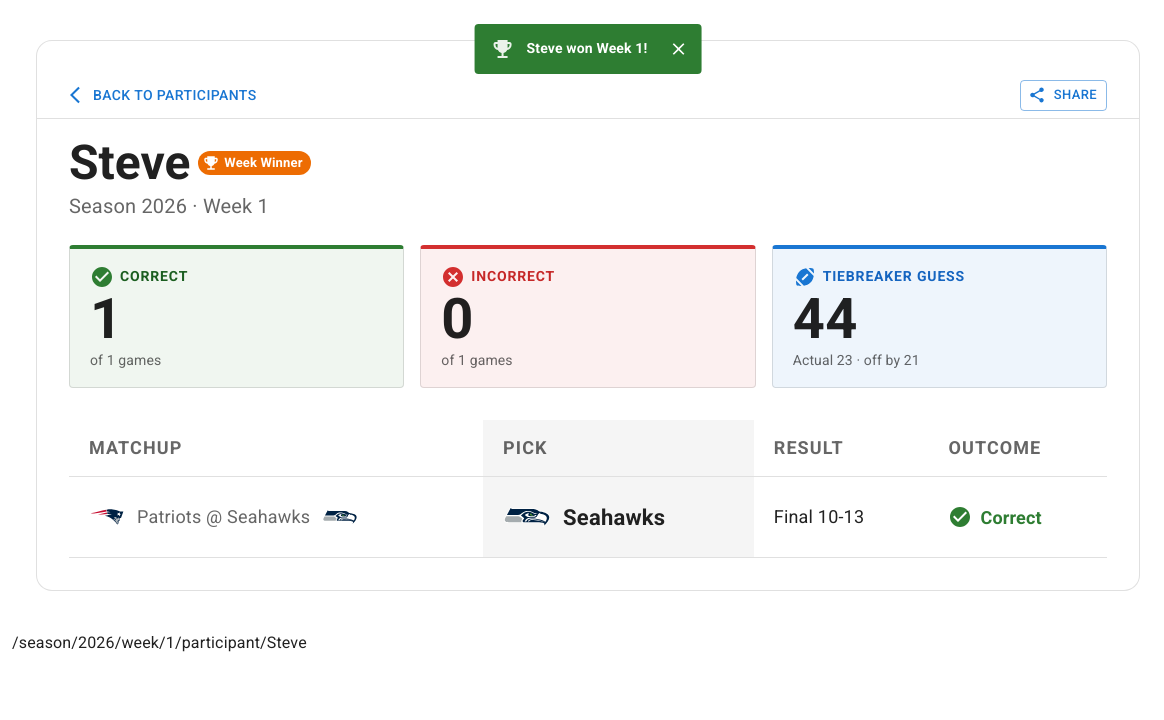
it: App routing › navigates back from detail to list, and from list to selection
Click the link "Back to participants" at (161, 95), box [65,85,256,105]
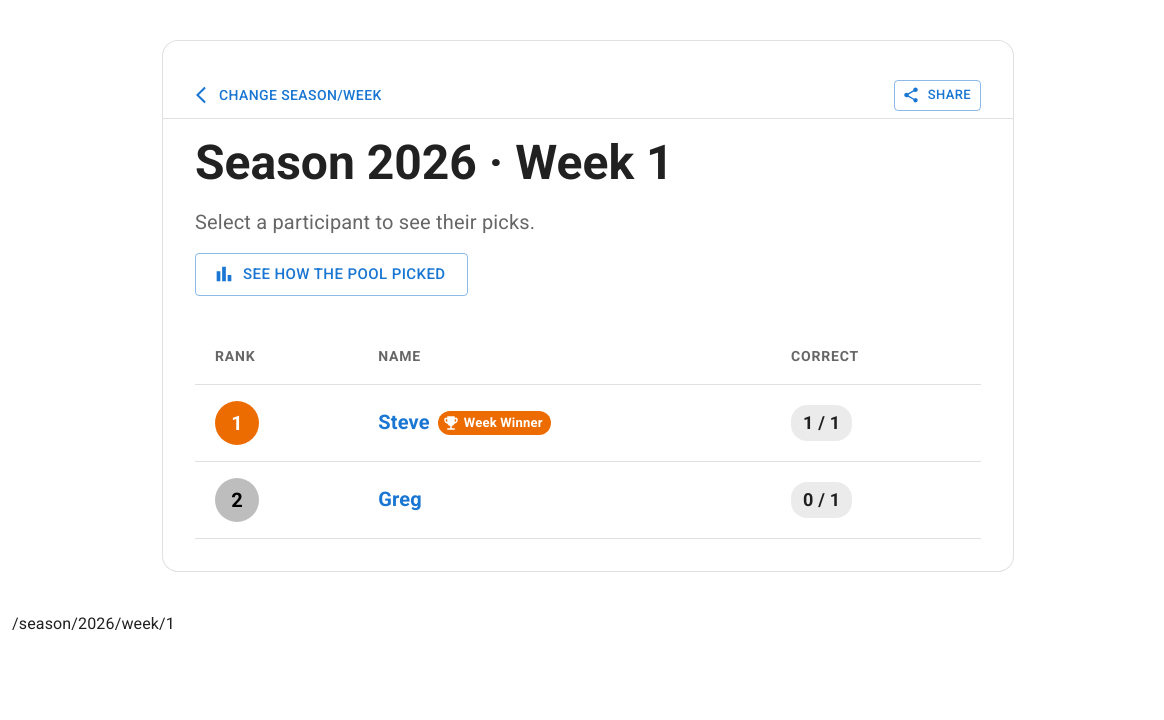
Check: the text with test id "location" reads "/season/2026/week/1", box [12,614,175,633]
Click the link "Change season/week" at (286, 95), box [191,85,382,105]
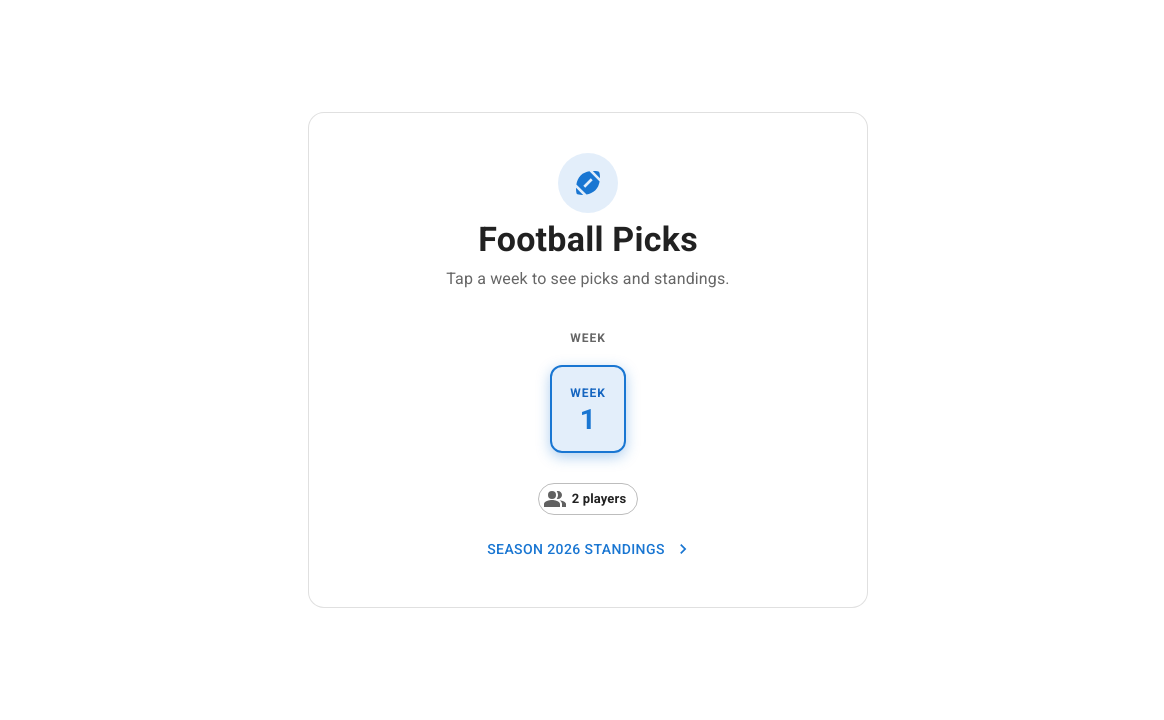
Check: the heading "Football Picks" is shown, box [478,219,698,261]
